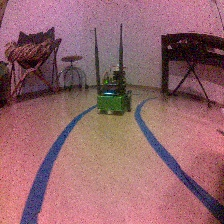rob: (95, 69, 132, 115)
